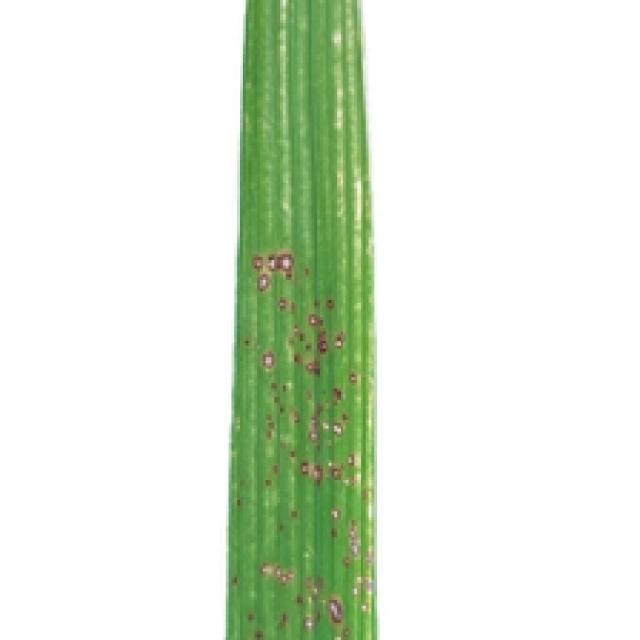Rice___Brown_Spot: (228, 0, 378, 637)
